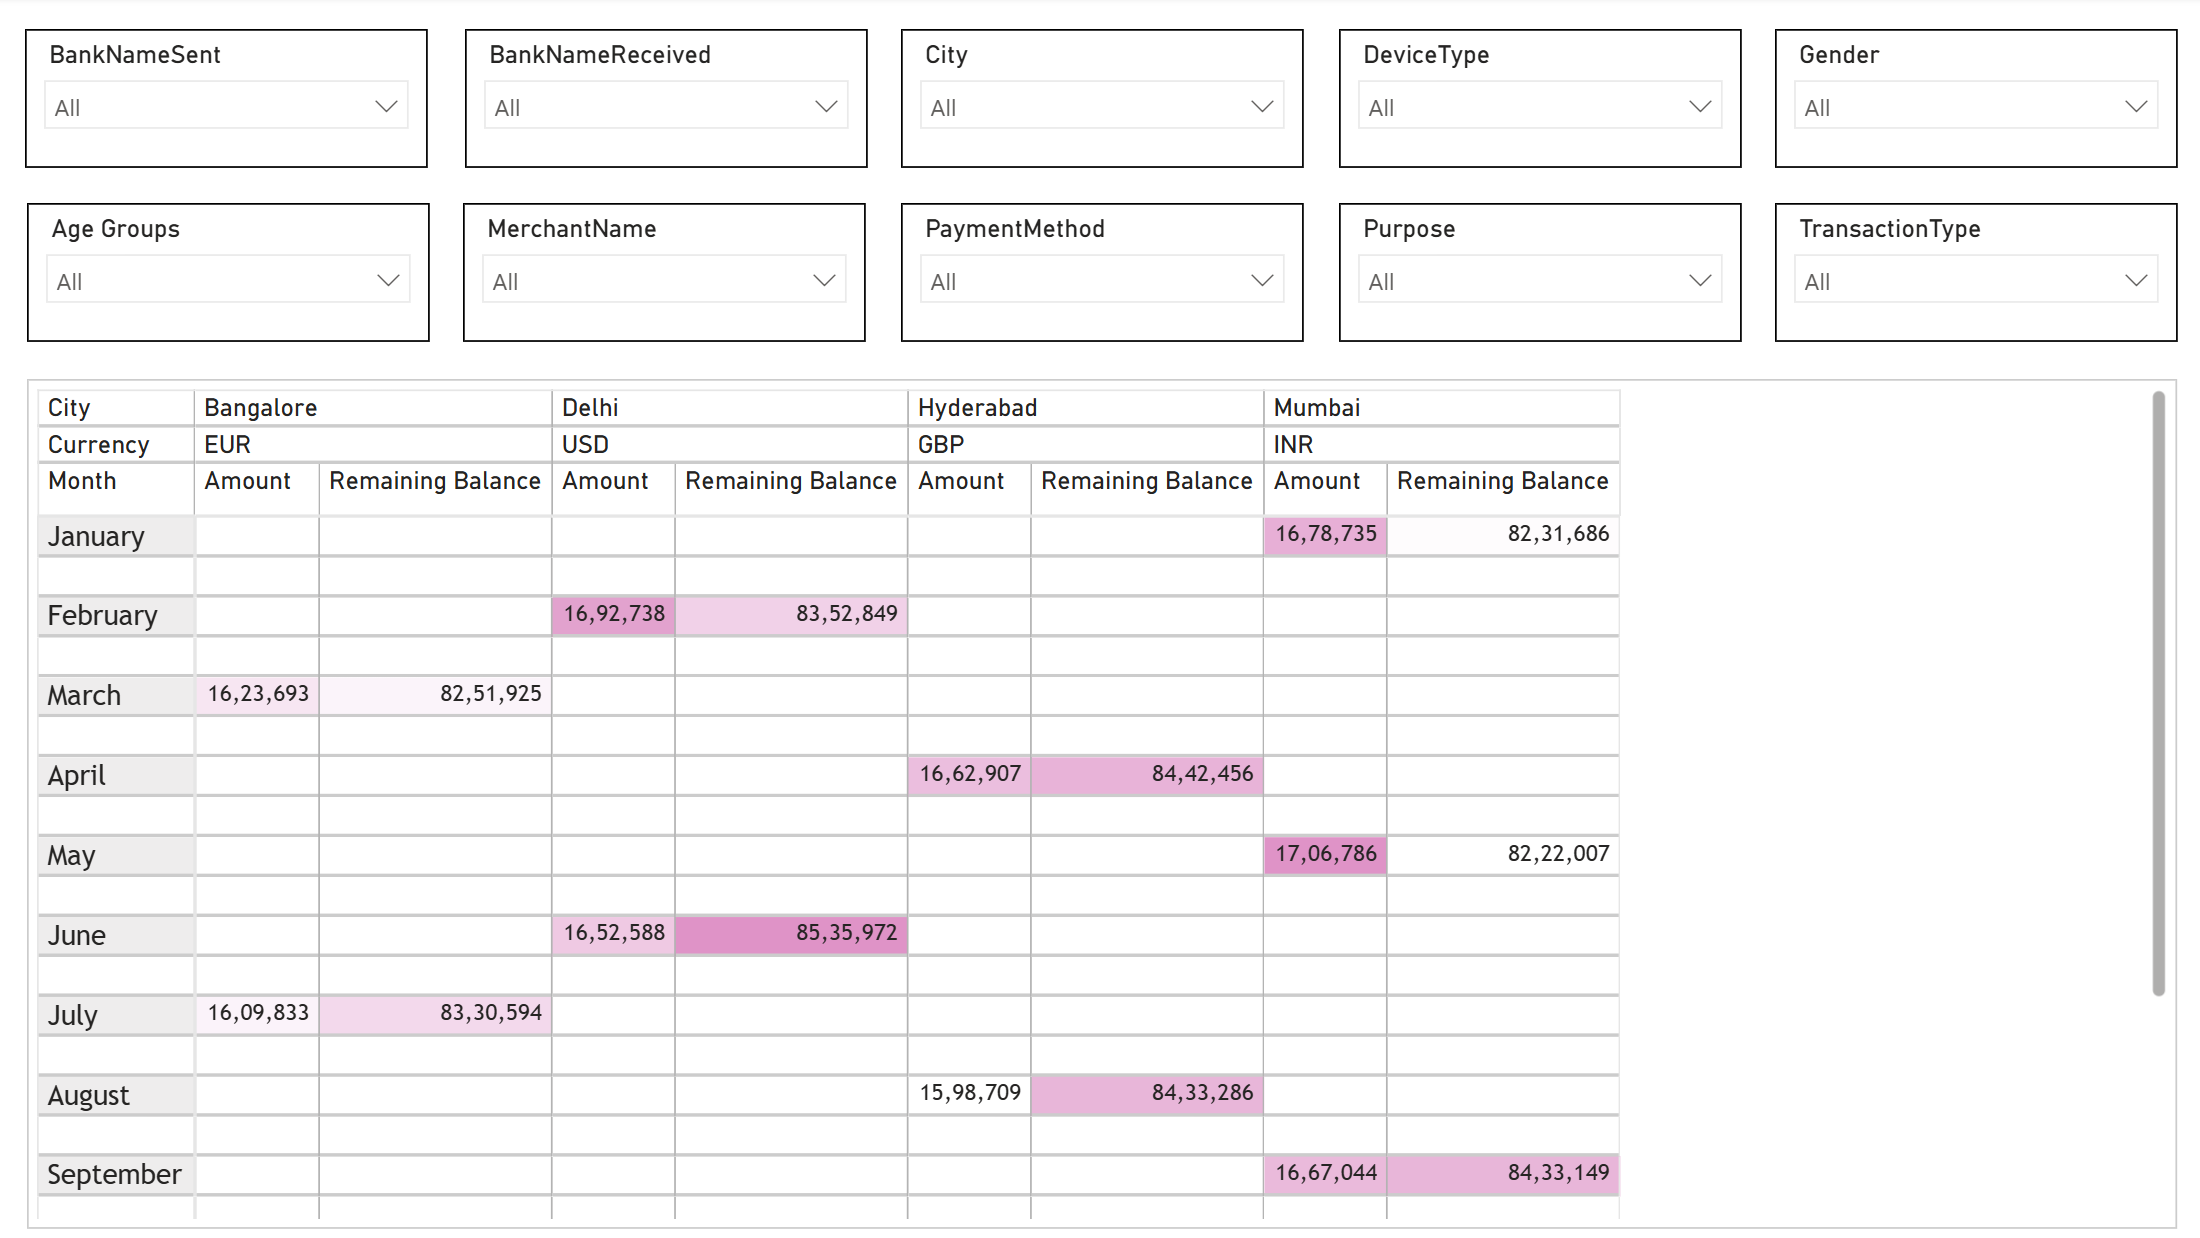

The page's visual inventory and layout, read from the dashboard file:
{"tool":"powerbi","page":{"name":"Page 2","canvas":[1280,720],"ordinal":1},"visuals":[{"type":"slicer","fields":{"Values":["UPI Transactions.BankNameSent"]},"box":[20,20,232,80],"z":0},{"type":"slicer","fields":{"Values":["UPI Transactions.BankNameReceived"]},"box":[272.5,20,232,80],"z":1000},{"type":"slicer","fields":{"Values":["UPI Transactions.City"]},"box":[524,20,232,80],"z":2000},{"type":"slicer","fields":{"Values":["UPI Transactions.DeviceType"]},"box":[776,20,232,80],"z":3000},{"type":"slicer","fields":{"Values":["UPI Transactions.Gender"]},"box":[1028,20,232,80],"z":4000},{"type":"slicer","fields":{"Values":["UPI Transactions.Age Groups"]},"box":[20.7,120,232,80],"z":5000},{"type":"slicer","fields":{"Values":["UPI Transactions.MerchantName"]},"box":[272,120,232,80],"z":6000},{"type":"slicer","fields":{"Values":["UPI Transactions.PaymentMethod"]},"box":[524.2,120,232,80],"z":7000},{"type":"slicer","fields":{"Values":["UPI Transactions.Purpose"]},"box":[776.4,120,232,80],"z":8000},{"type":"slicer","fields":{"Values":["UPI Transactions.TransactionType"]},"box":[1028,120,232,80],"z":9000},{"type":"pivotTable","fields":{"Columns":["UPI Transactions.City","UPI Transactions.Currency"],"Rows":["UPI Transactions.TransactionDate.Variation.Date Hierarchy.Month"],"Values":["Sum(UPI Transactions.Amount)","Sum(UPI Transactions.RemainingBalance)"]},"box":[20.7,221.2,1238.4,489.6],"z":10000}]}

Visuals, with their boxes in screenshot pixels (x1, y1, x2, y2), scaled from the page's 1280x720 canvas onto the 2200x1238 screenshot:
slicer - UPI Transactions.BankNameSent: locate(34, 34, 433, 172)
slicer - UPI Transactions.BankNameReceived: locate(468, 34, 867, 172)
slicer - UPI Transactions.City: locate(901, 34, 1299, 172)
slicer - UPI Transactions.DeviceType: locate(1334, 34, 1732, 172)
slicer - UPI Transactions.Gender: locate(1767, 34, 2166, 172)
slicer - UPI Transactions.Age Groups: locate(36, 206, 434, 344)
slicer - UPI Transactions.MerchantName: locate(468, 206, 866, 344)
slicer - UPI Transactions.PaymentMethod: locate(901, 206, 1300, 344)
slicer - UPI Transactions.Purpose: locate(1334, 206, 1733, 344)
slicer - UPI Transactions.TransactionType: locate(1767, 206, 2166, 344)
pivotTable - UPI Transactions.City x UPI Transactions.Currency: locate(36, 380, 2164, 1222)
